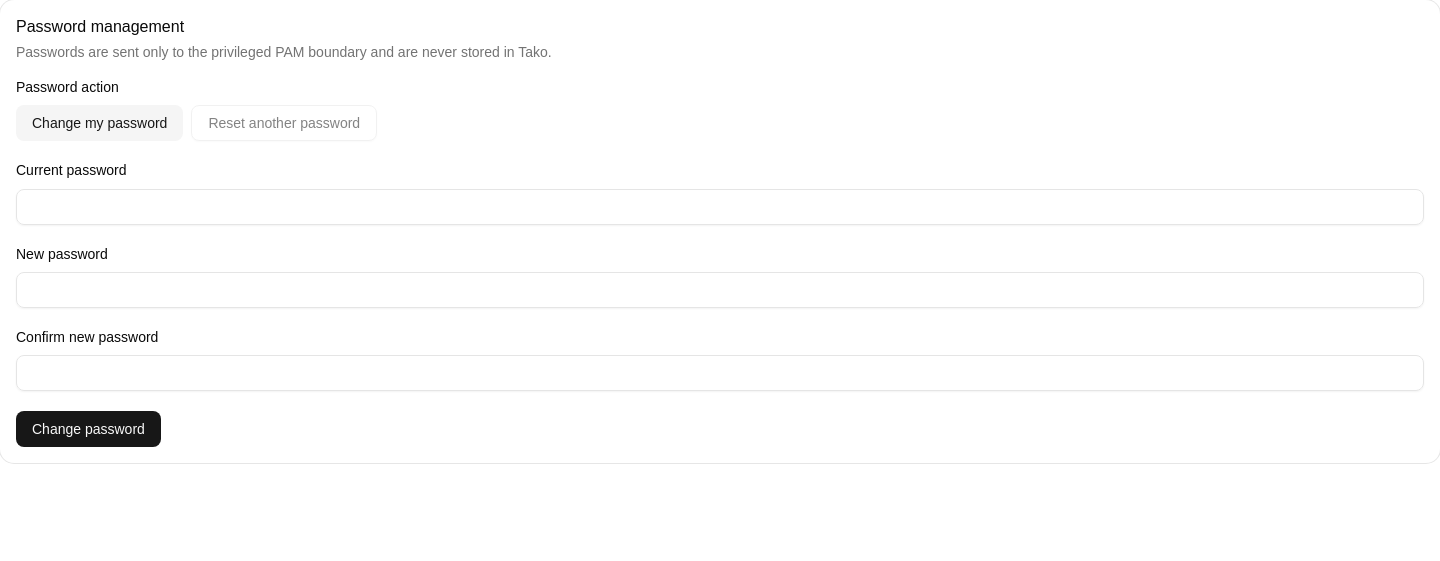
Test: PasswordManager › submits a self-service change without exposing the secret in the UI
Type "old-secret" into the password field labelled "Current password".
click(720, 206); type("old-secret")  # box left=16, top=188, right=1424, bottom=224
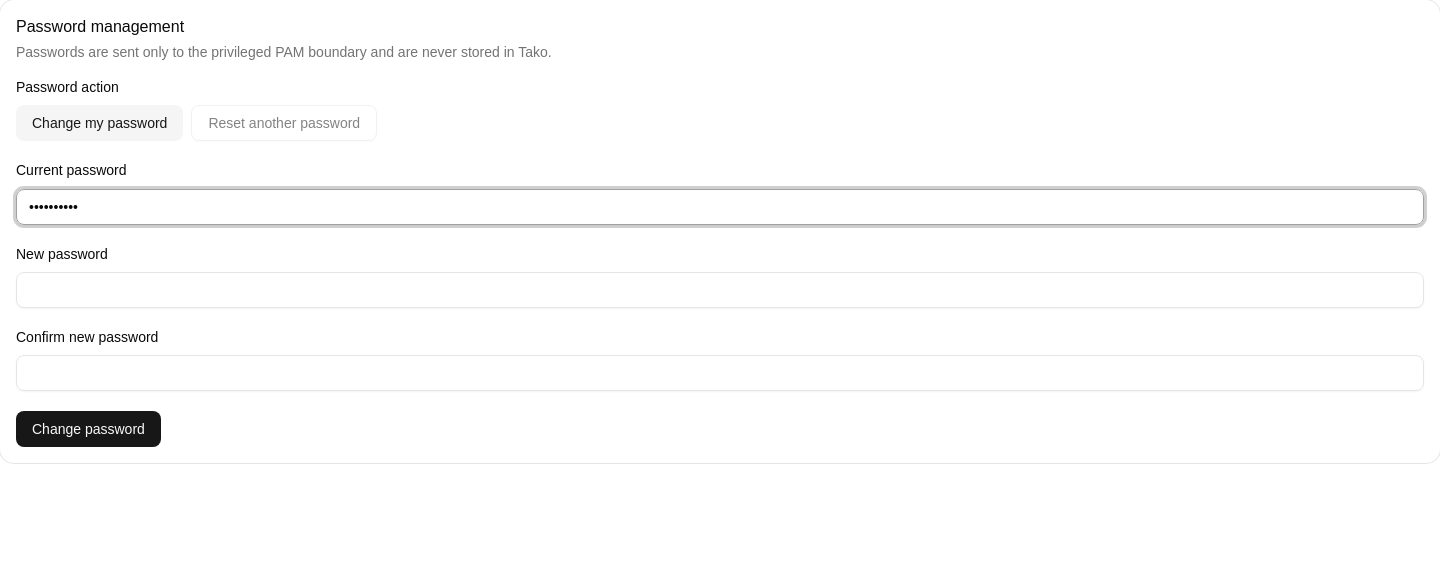
Type "new-secret" into the password field labelled "New password".
click(720, 290); type("new-secret")  # box left=16, top=272, right=1424, bottom=308
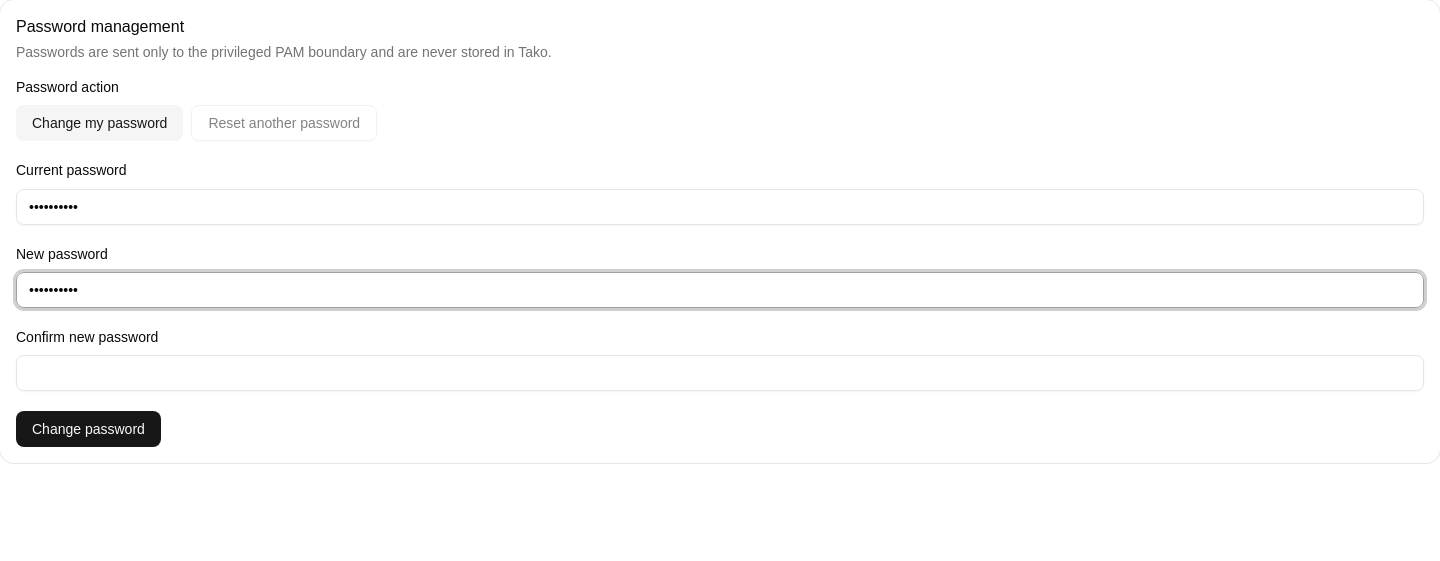
Type "new-secret" into the password field labelled "Confirm new password".
click(720, 373); type("new-secret")  # box left=16, top=355, right=1424, bottom=391
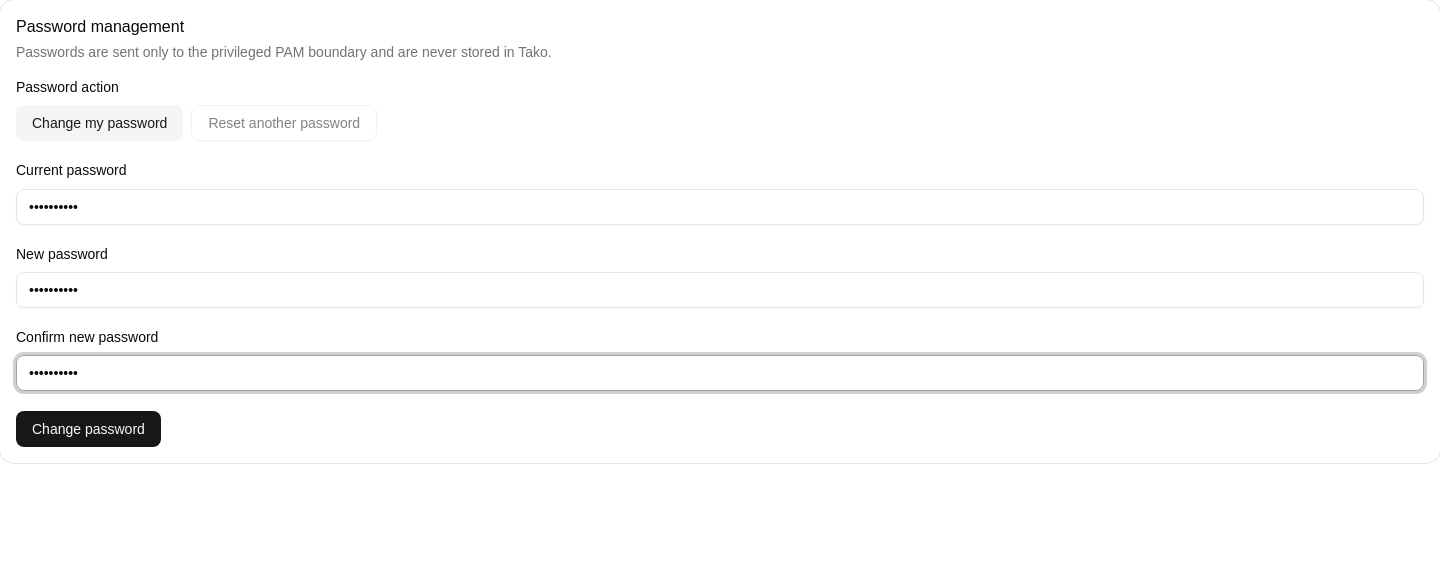
Click the button "Change password".
click(88, 429)  # box left=16, top=411, right=161, bottom=447
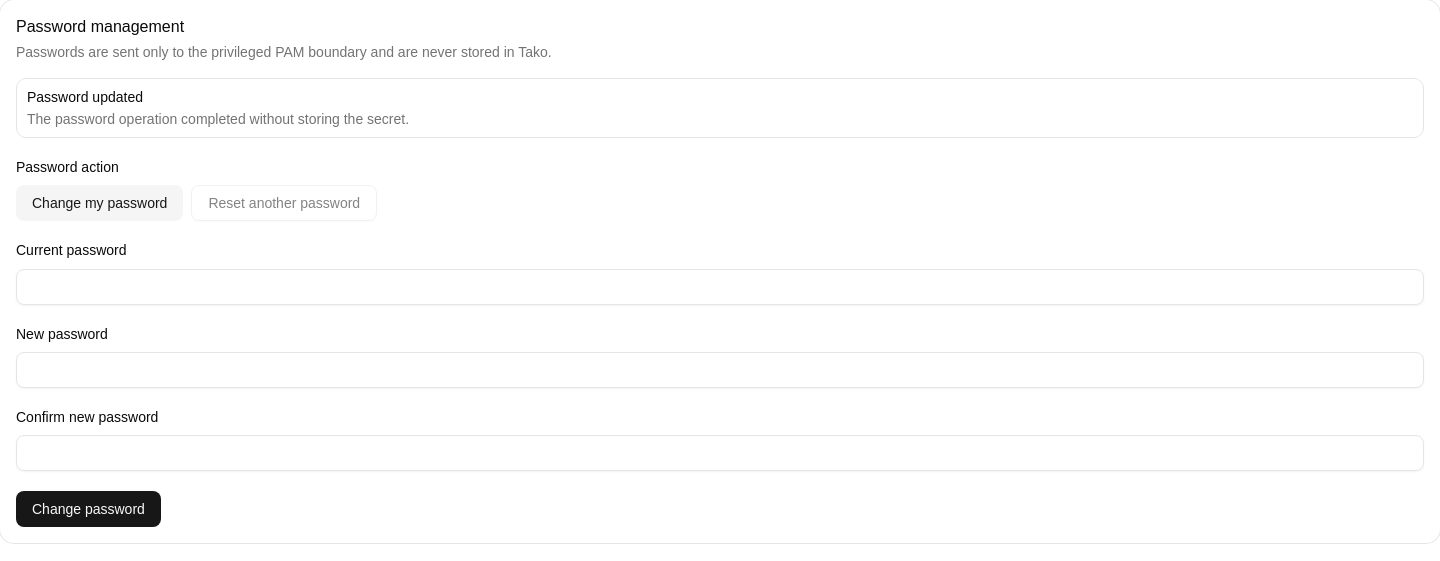
Expected: the text "Password updated" is shown, left=27, top=89, right=143, bottom=105
